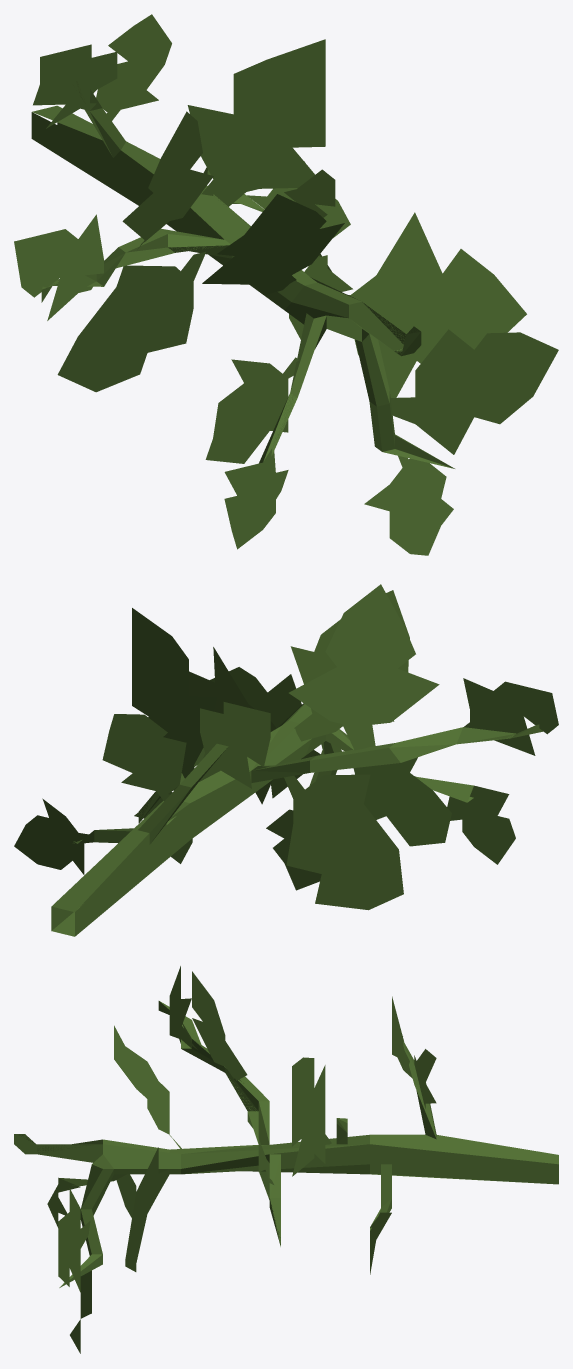
Rendered from stage_1.obj.
3 views of the same model, one above another, from view 1: azimuth 30°, elevation 25°; view 2: azimuth 150°, elevation 25°; view 3: azimuth 270°, elevation 25° (orthographic). The views are drawn at different scales.
Visible parts, largest first — view 1: Tomato_Stage1_v3; view 2: Tomato_Stage1_v3; view 3: Tomato_Stage1_v3.
Part boxes in pixels (x1,y1,x2,y2): Tomato_Stage1_v3: [14, 14, 558, 555]; Tomato_Stage1_v3: [14, 584, 558, 936]; Tomato_Stage1_v3: [14, 966, 558, 1353].
Size of the model in its own units: 0.0925 by 0.08 by 0.1225.
